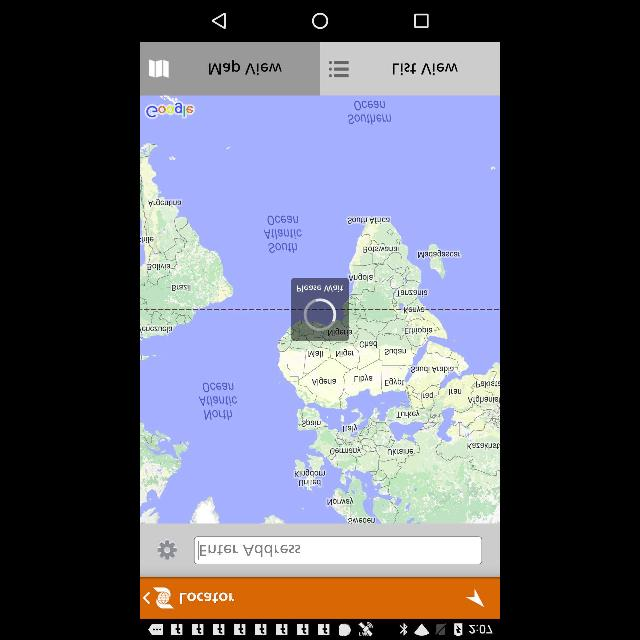icon: (157, 540, 177, 560), (467, 588, 485, 608), (312, 14, 328, 28), (214, 12, 226, 30), (414, 13, 428, 27), (144, 592, 150, 604)
image: (154, 588, 173, 608)
input: (194, 537, 482, 563)
map: (140, 95, 500, 523)
panel: (140, 1, 500, 42)
text: (201, 544, 301, 554), (179, 592, 237, 604)
textbutton: (140, 42, 318, 94), (320, 43, 498, 95)
toolbar: (140, 576, 500, 620)
uppertaskbar: (140, 620, 500, 640)
